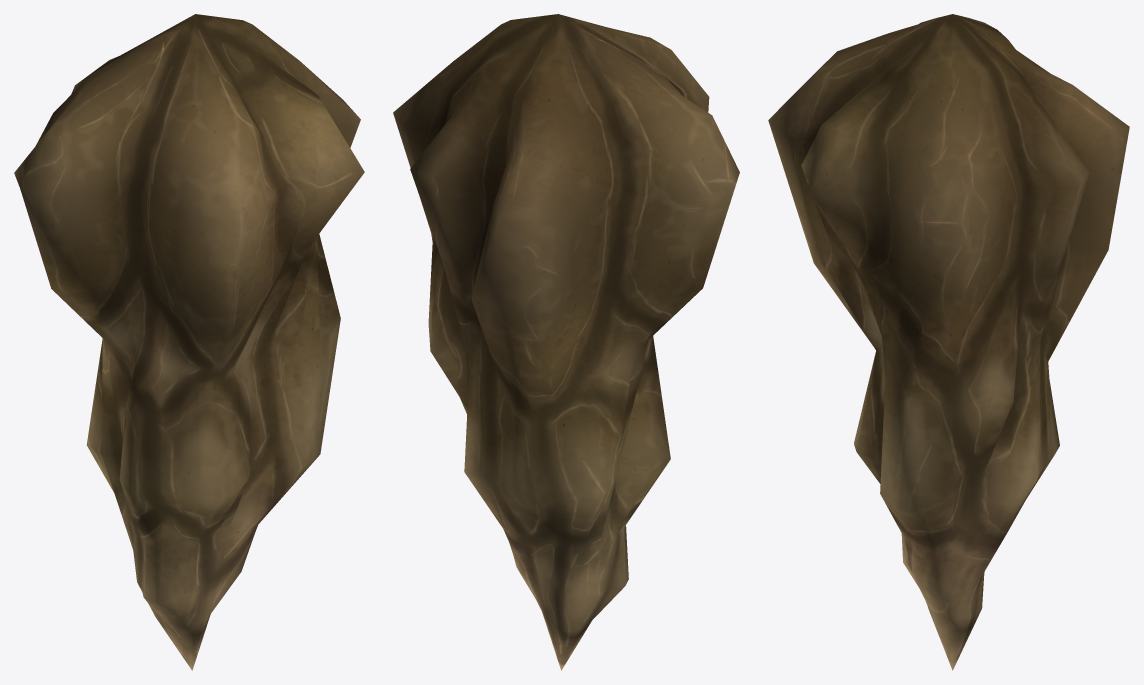
Rendered from Rock Icicle.FBX.
3 views of the same model, side by side, from view 1: azimuth 30°, elevation 25°; view 2: azimuth 150°, elevation 25°; view 3: azimuth 270°, elevation 25° (orthographic).
Visible parts, largest first — view 1: Rock Icicle; view 2: Rock Icicle; view 3: Rock Icicle.
Part boxes in pixels (bbox=[...]): Rock Icicle: bbox=[14, 14, 364, 670]; Rock Icicle: bbox=[393, 14, 739, 670]; Rock Icicle: bbox=[768, 14, 1129, 670].
Bounding box in the file's own units: 27.24 × 51.33 × 25.55.
Materials: 1 (1 with a texture image).
